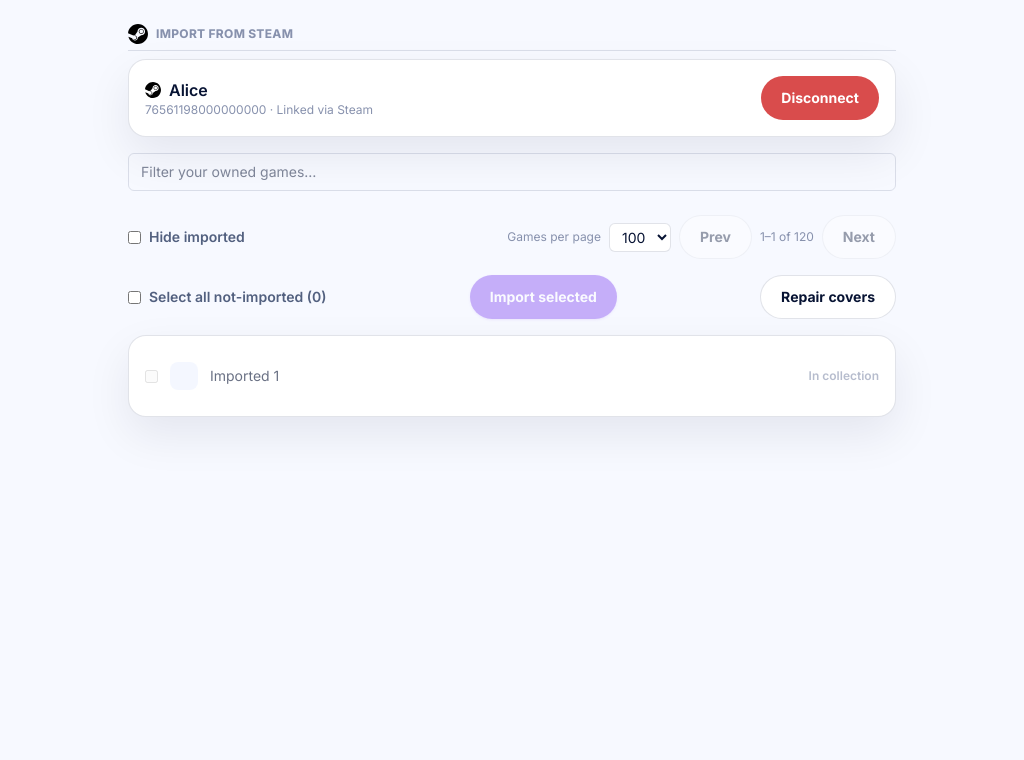
it: ImportSteam › requests and renders the server-provided hide-imported page
Click the checkbox labelled "Hide imported". click: (134, 237)
box: [128,231,141,244]
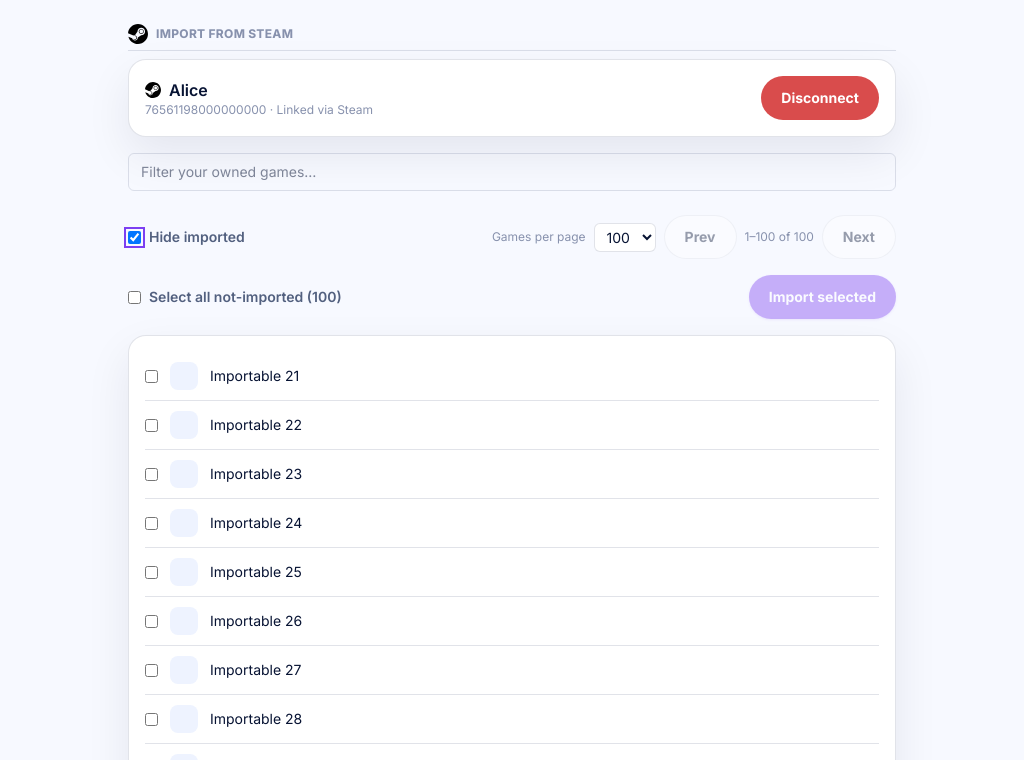
Expected: the text "Importable 21" is shown 100 times
Expected: the text "1–100 of 100" is shown, [744,229,814,245]
